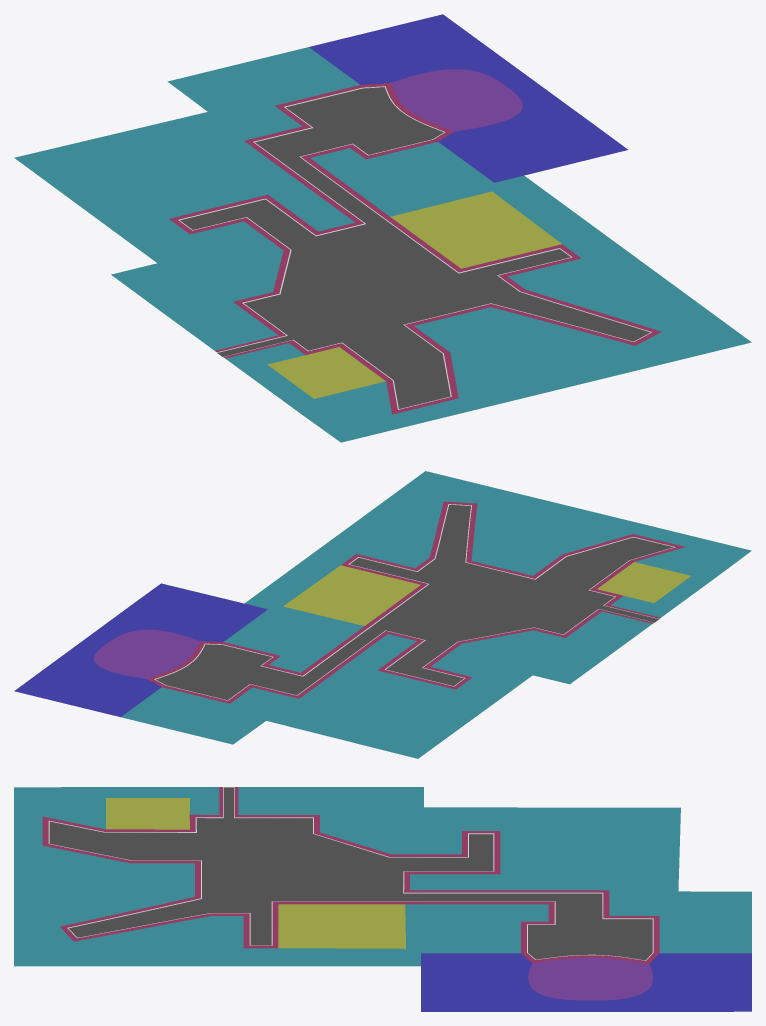
The model's file is Advertising-Hell-TEST-FBX-3.fbx.
3 views of the same model, one above another, from view 1: azimuth 30°, elevation 25°; view 2: azimuth 150°, elevation 25°; view 3: azimuth 270°, elevation 25° (orthographic). The views are drawn at different scales.
Parts seen in each view (by area): view 1: World-Layout-CITY; view 2: World-Layout-CITY; view 3: World-Layout-CITY.
Part boxes in pixels (left/top/right/bottom): World-Layout-CITY: left=14, top=14, right=751, bottom=442; World-Layout-CITY: left=14, top=471, right=751, bottom=758; World-Layout-CITY: left=14, top=787, right=751, bottom=1011.
Bounding box in the file's own units: 30700 × 25.93 × 42575.
